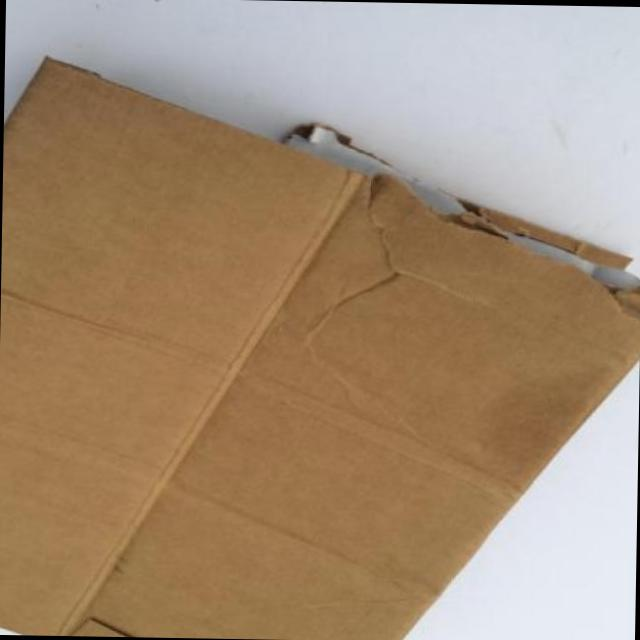cardboard paper: (0, 60, 640, 640)
